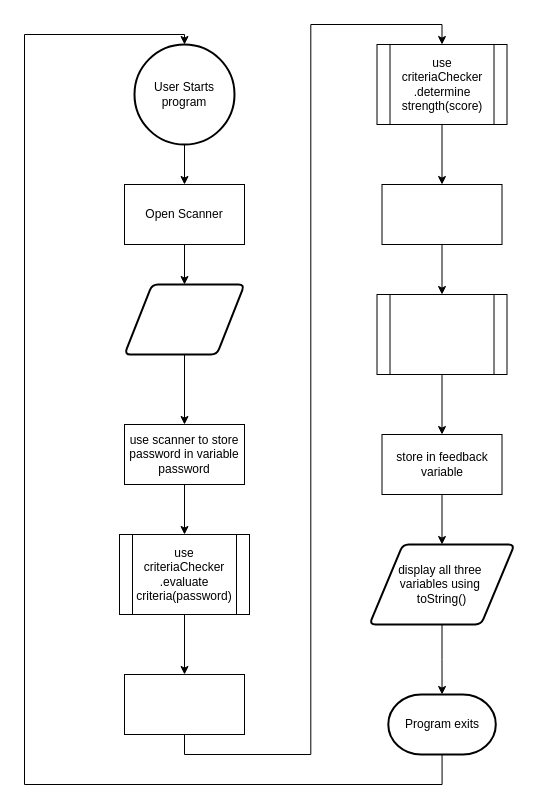
The diagram is 533 pixels wide and 810 high, and some of its shapes have lost their labels. The centre of each missing label's shape, as x and y in pixels:
"Get password from user" goes at point 184,319.
"store in variable score" goes at point 184,704.
"store in variable strength" goes at point 441,214.
"use FeedbackGenerator. generateFeedback (password)" goes at point 441,334.
